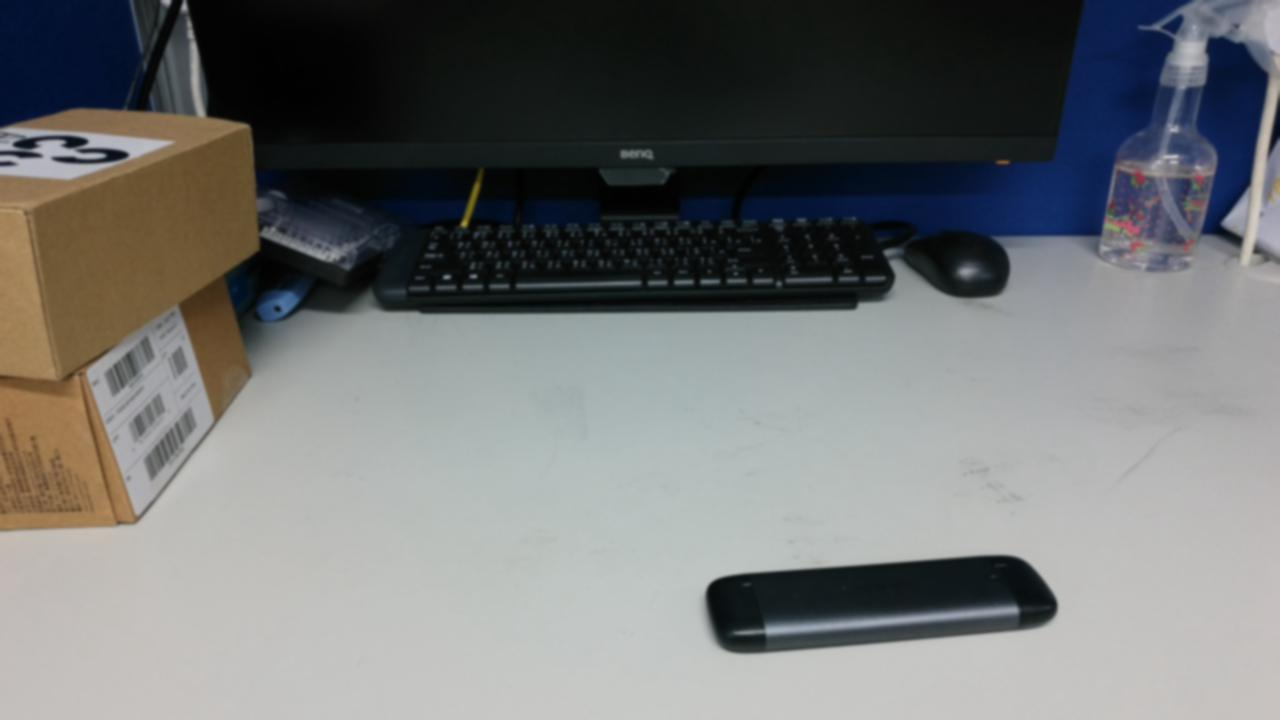blade: (673, 427, 799, 467)
grasp: (574, 393, 685, 444)
